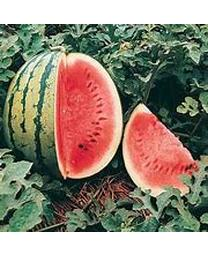watermelon: (4, 50, 124, 179), (125, 101, 201, 198)
